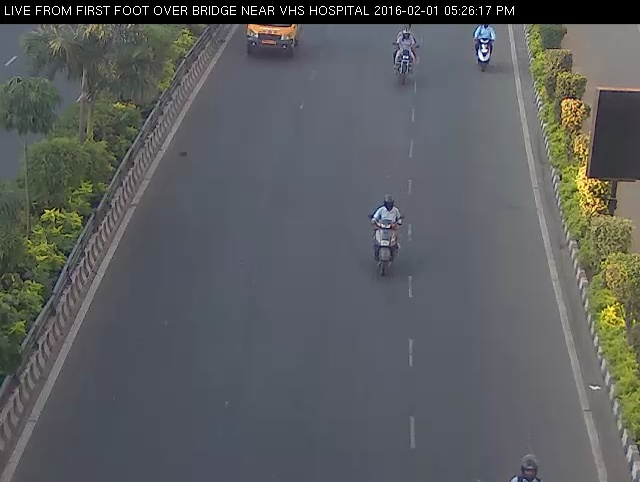Car: (233, 18, 305, 64)
Person: (359, 179, 405, 288), (384, 14, 424, 97), (501, 436, 554, 481), (467, 20, 496, 81)
